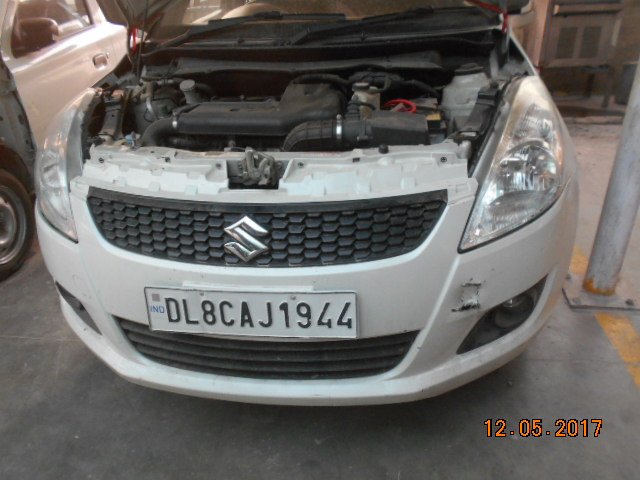Scratch_or_spot: (427, 382, 435, 413)
Tear: (261, 364, 287, 409)
